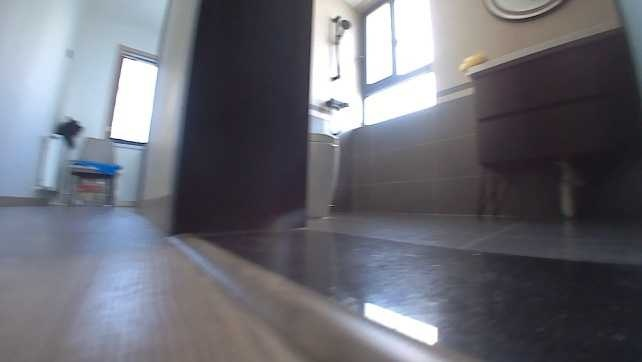door_sill: (167, 228, 640, 361)
toilet: (305, 128, 340, 219)
washstand: (460, 21, 640, 221)
